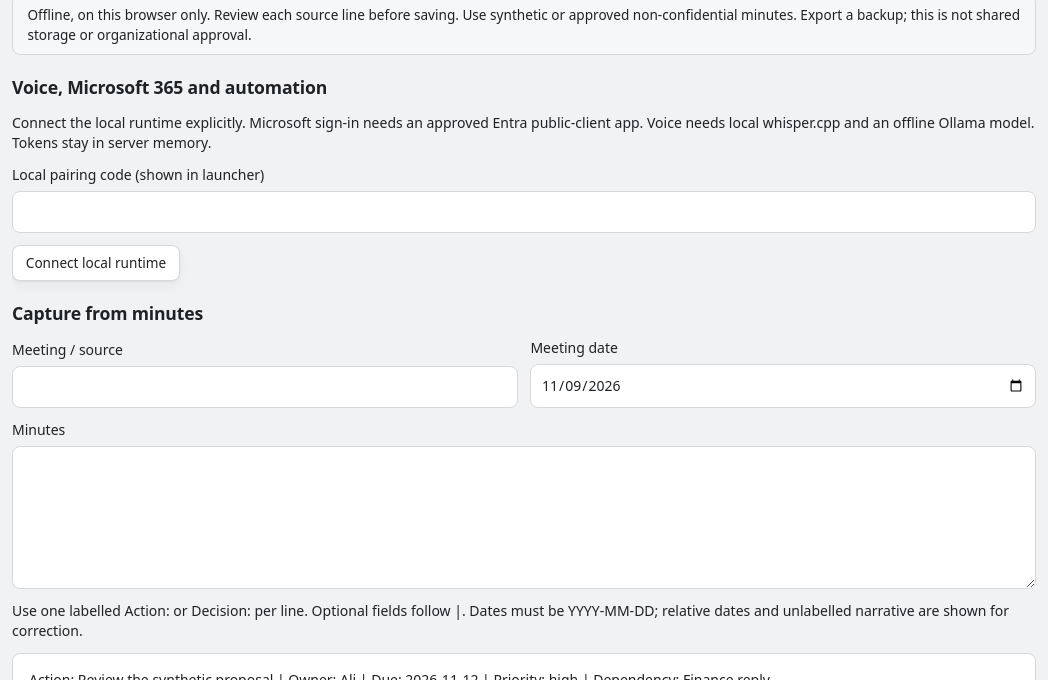
it: requires review, persists records, closes them and reloads the same register
Later steps or results of the test are not shown.
Type "Synthetic minutes" into the field labelled "Meeting / source" at point(265, 387), box 12,366 -> 518,408
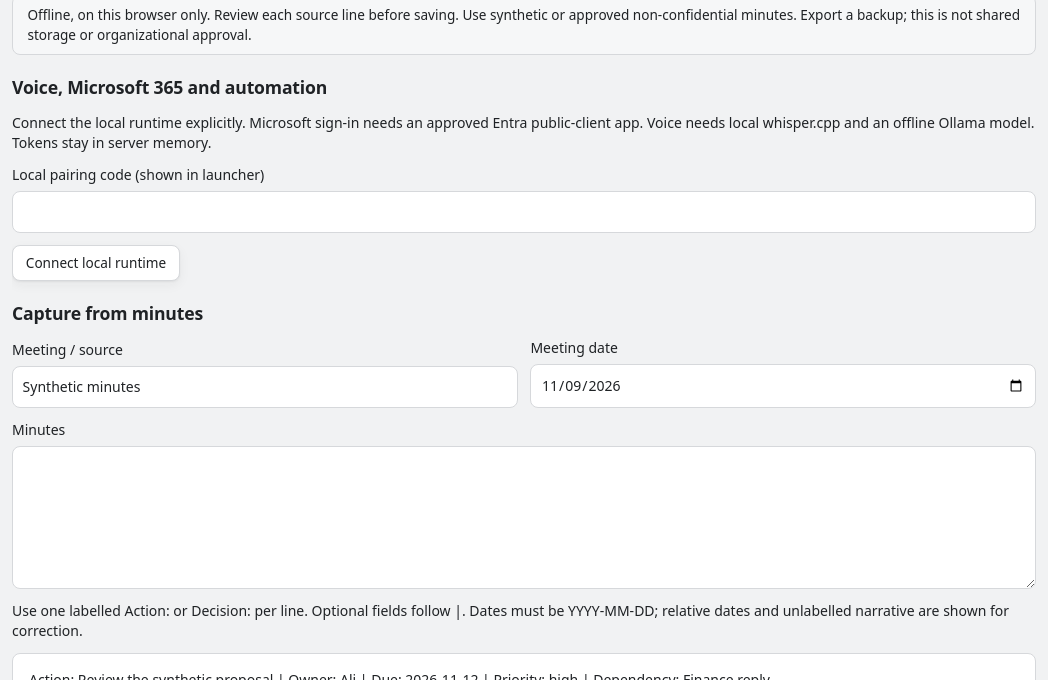
Type "Action: Review test proposal | Owner: Ali | Due: 2026-11-01" into the text box labelled "Minutes" at point(524, 517), box 12,446 -> 1036,589
(page scrolled)
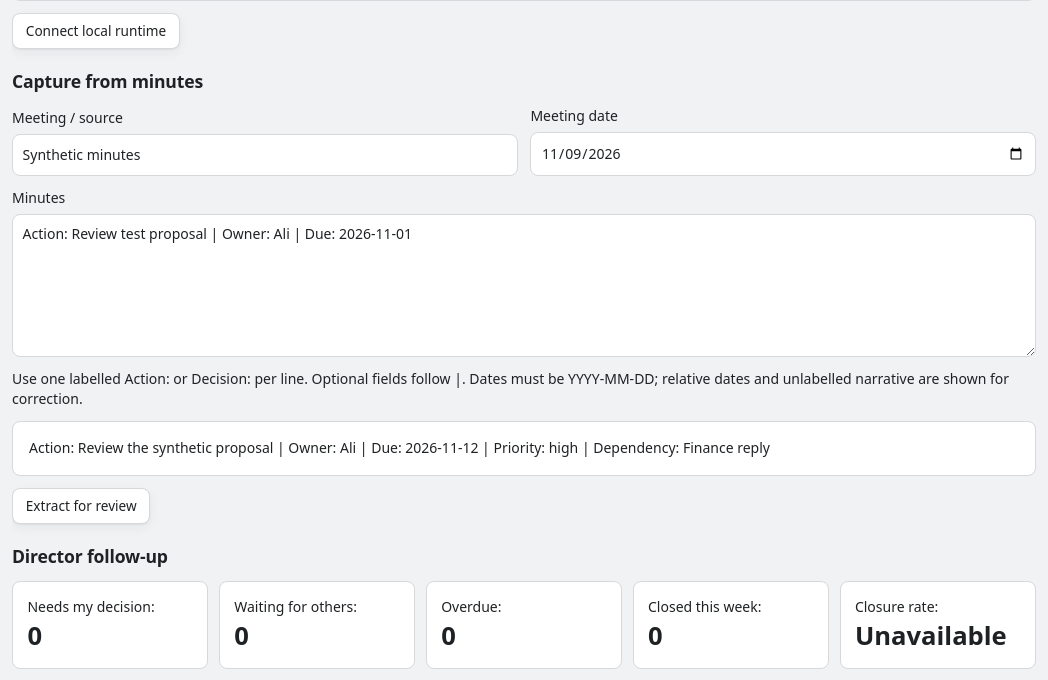
Submit the form named "Extract for review"
(page scrolled)
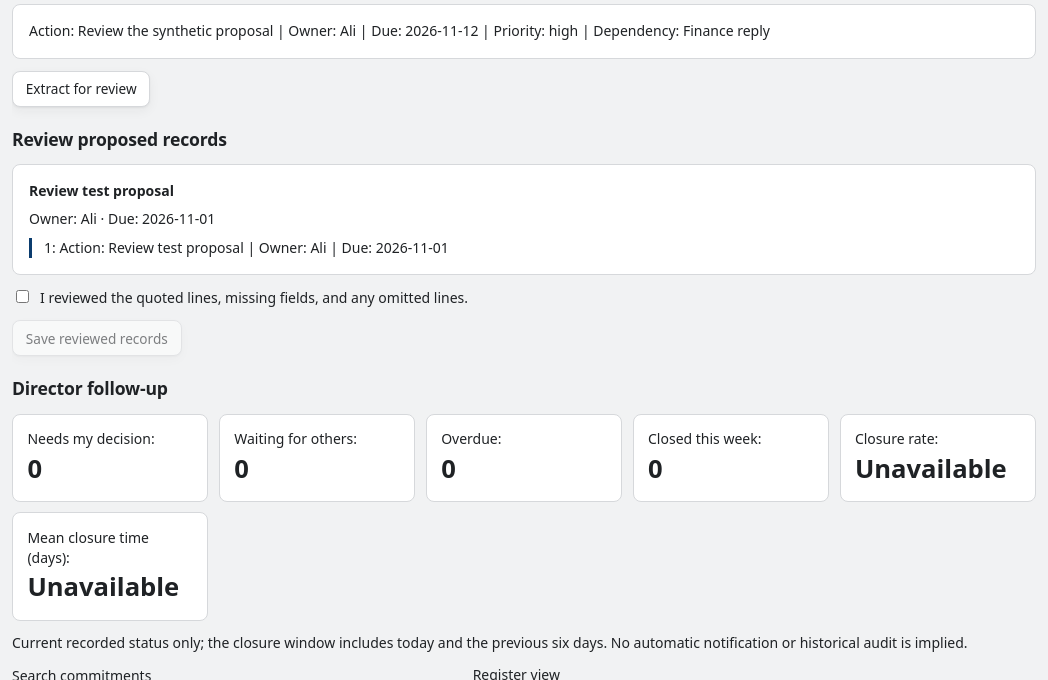
Expected: the button "Save reviewed records" is disabled, 12,320 -> 182,356
